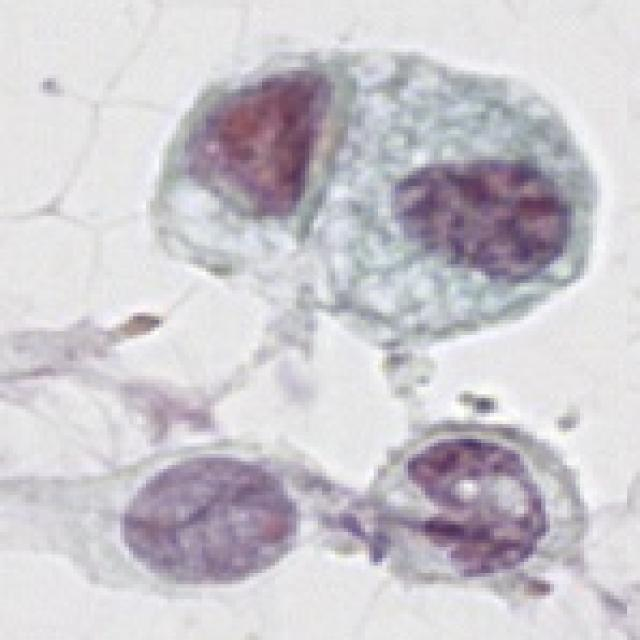cytoplasm: (134, 18, 617, 379), (0, 402, 592, 615)
nucleus: (171, 36, 347, 232), (398, 410, 564, 589), (118, 444, 308, 599), (390, 153, 578, 285)
